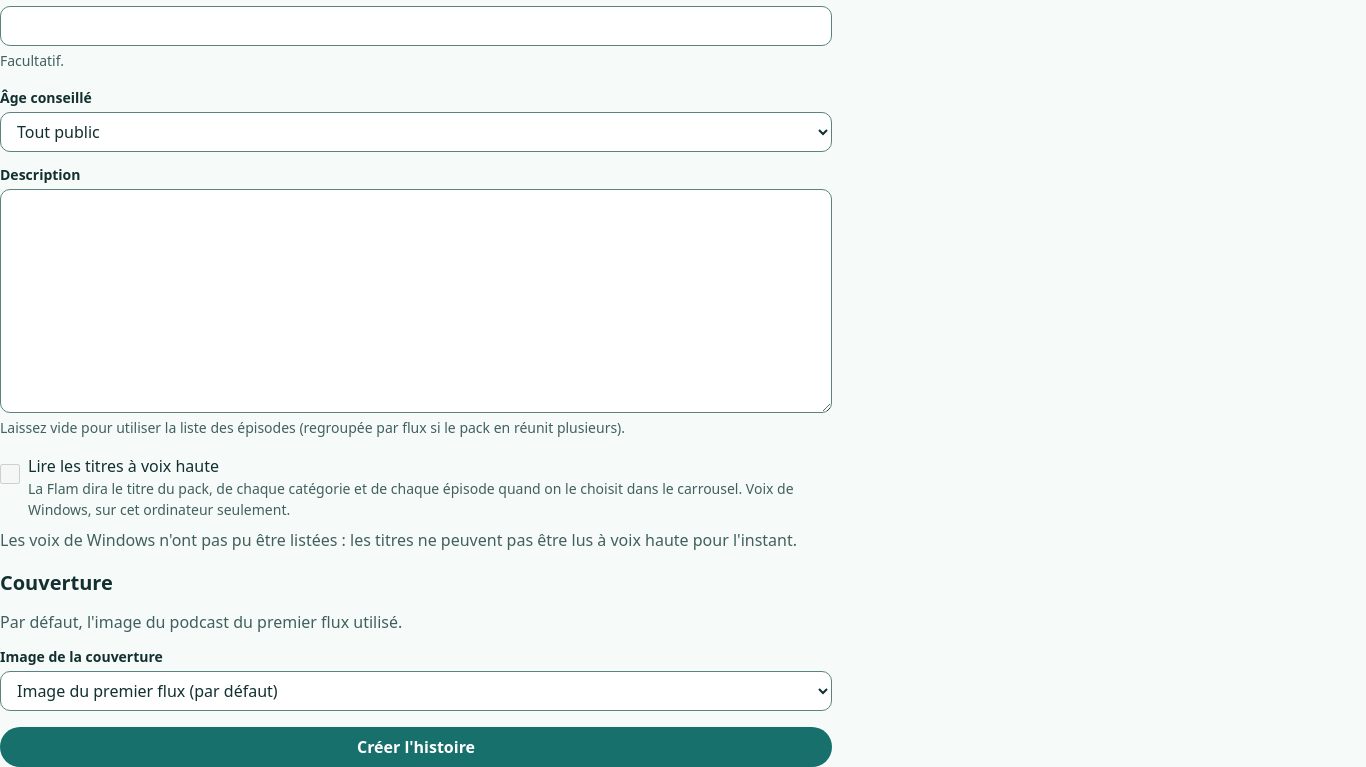
Scenario: Échap ferme le message de droits sans créer ni mémoriser
(page scrolled)
Click the button "Créer l'histoire" at (416, 747), box [0,727,832,766]
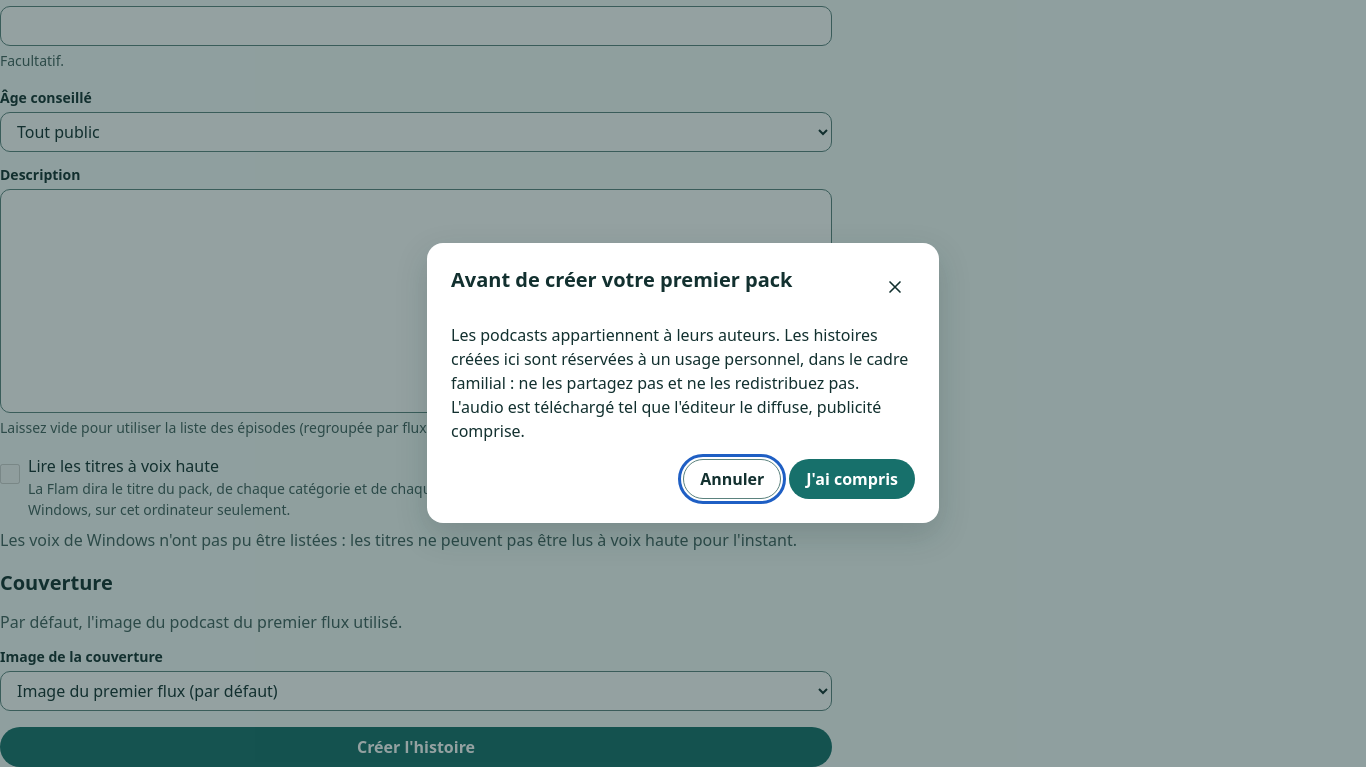
Now the dialog is shown, box [427,243,939,523]
Press Escape
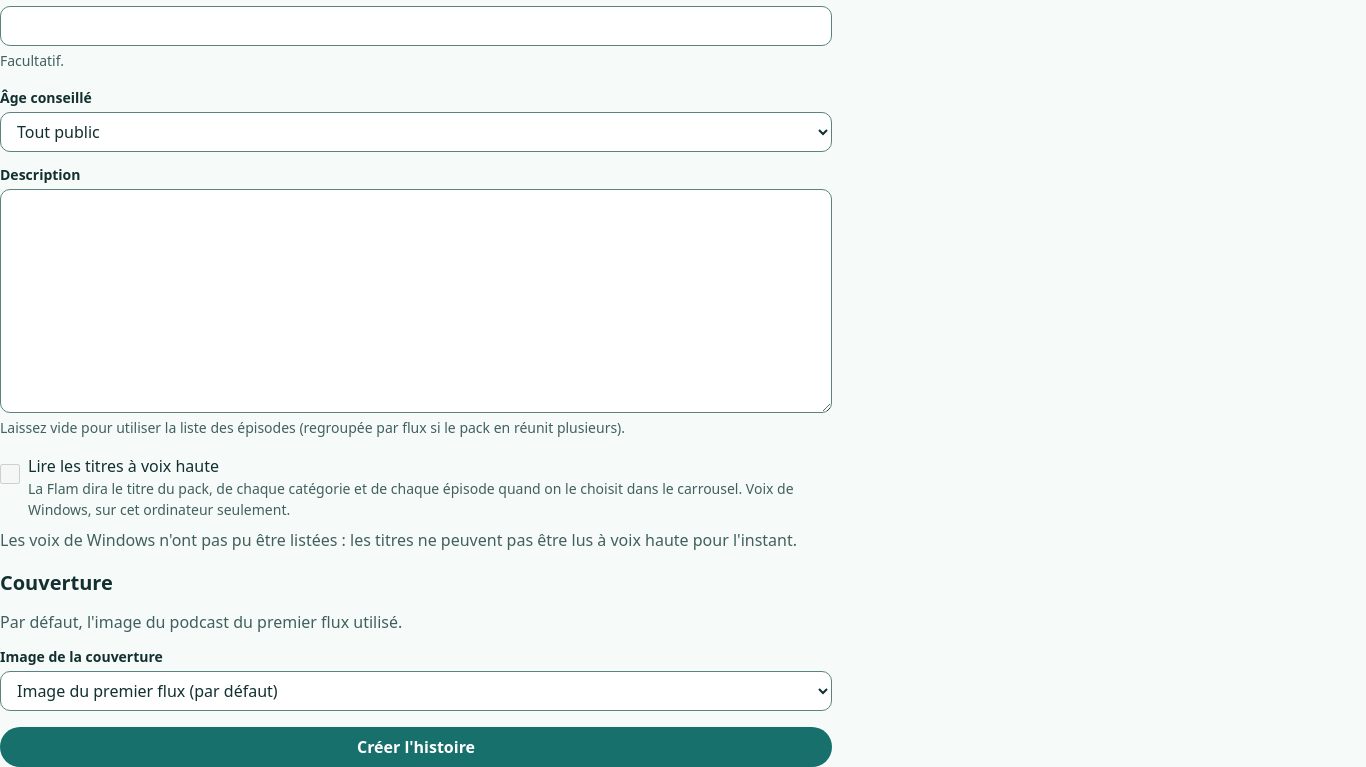
Now the dialog is gone
